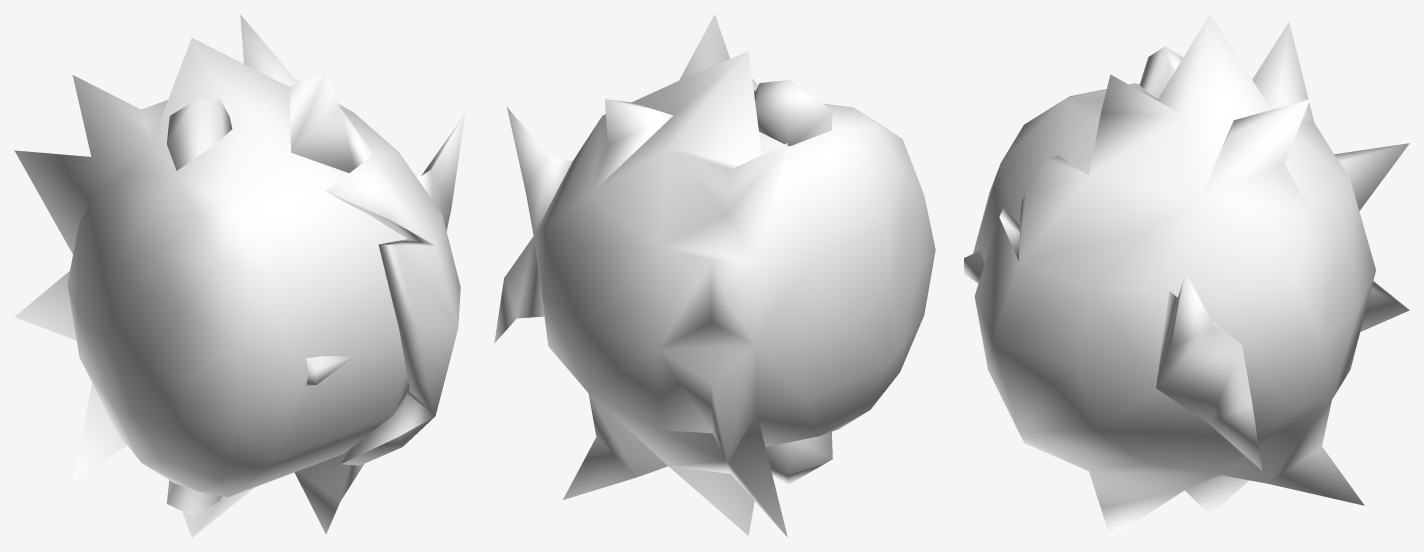
The model's file is boy12a.dae.
3 views of the same model, side by side, from view 1: azimuth 30°, elevation 25°; view 2: azimuth 150°, elevation 25°; view 3: azimuth 270°, elevation 25° (orthographic). The views are drawn at different scales.
Visible parts, largest first — view 1: boy12a; view 2: boy12a; view 3: boy12a.
Boxes of the visible parts, x1,y1,x2,y2 form: boy12a: [14, 14, 465, 537]; boy12a: [494, 14, 935, 537]; boy12a: [964, 14, 1409, 537].
Bounding box in the file's own units: 25.4 × 32.04 × 25.81.
Materials: 3 (1 with a texture image).
